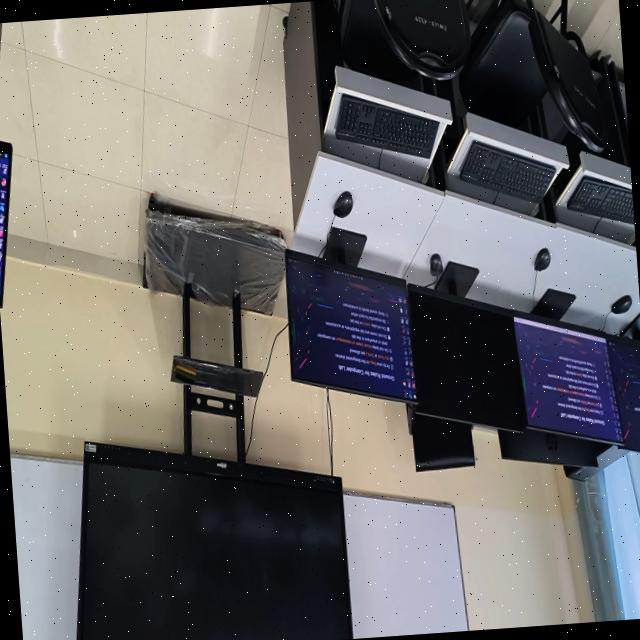Chair: (471, 0, 601, 154), (358, 0, 461, 79), (404, 410, 476, 478)
Digital board: (74, 411, 344, 640)
Keyboard: (462, 136, 564, 188), (338, 96, 437, 149), (564, 170, 634, 224)
Monitor: (284, 230, 408, 414), (404, 273, 521, 438), (516, 286, 622, 448), (492, 429, 594, 480), (618, 317, 640, 469), (0, 133, 15, 302)
Mouse: (325, 178, 352, 229), (610, 286, 633, 324), (422, 252, 444, 282), (534, 234, 548, 280)
